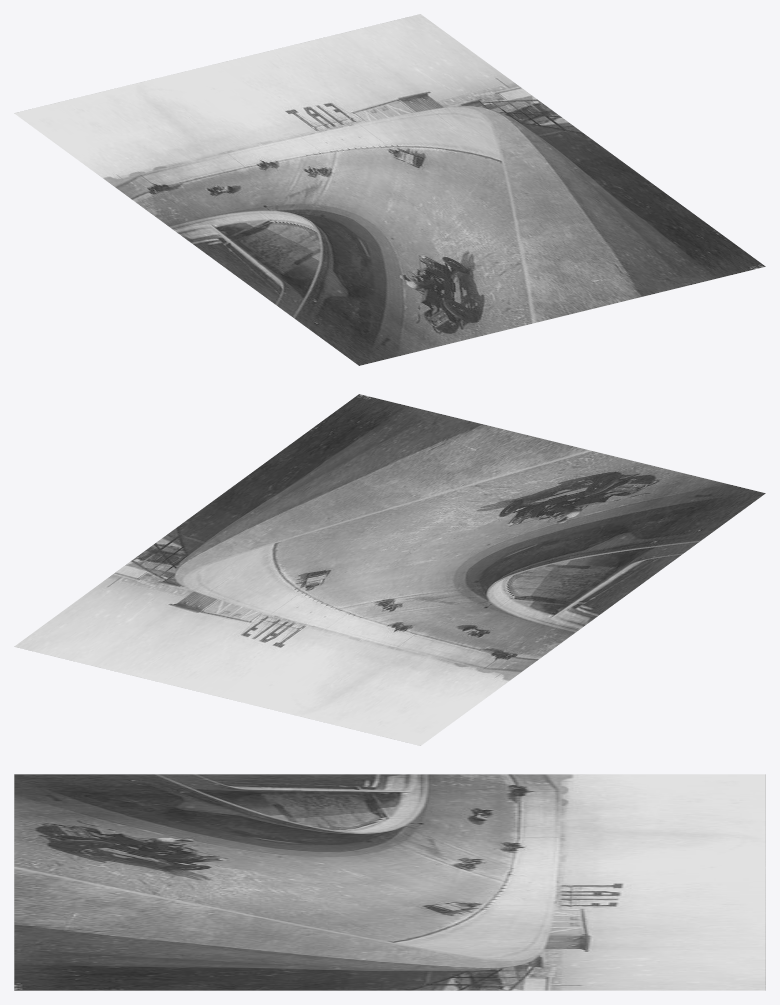
The model's file is pista1.obj.
The picture shows the model from 3 angles, top to bottom: view 1: azimuth 30°, elevation 25°; view 2: azimuth 150°, elevation 25°; view 3: azimuth 270°, elevation 25°; orthographic projection. The views are drawn at different scales.
Visible parts, largest first — view 1: Plane001; view 2: Plane001; view 3: Plane001.
Boxes of the visible parts, left/top/right/bottom form: Plane001: left=14, top=14, right=765, bottom=365; Plane001: left=14, top=394, right=765, bottom=745; Plane001: left=14, top=774, right=765, bottom=990.
Size of the model in its own units: 1.78 by 0 by 2.62.
